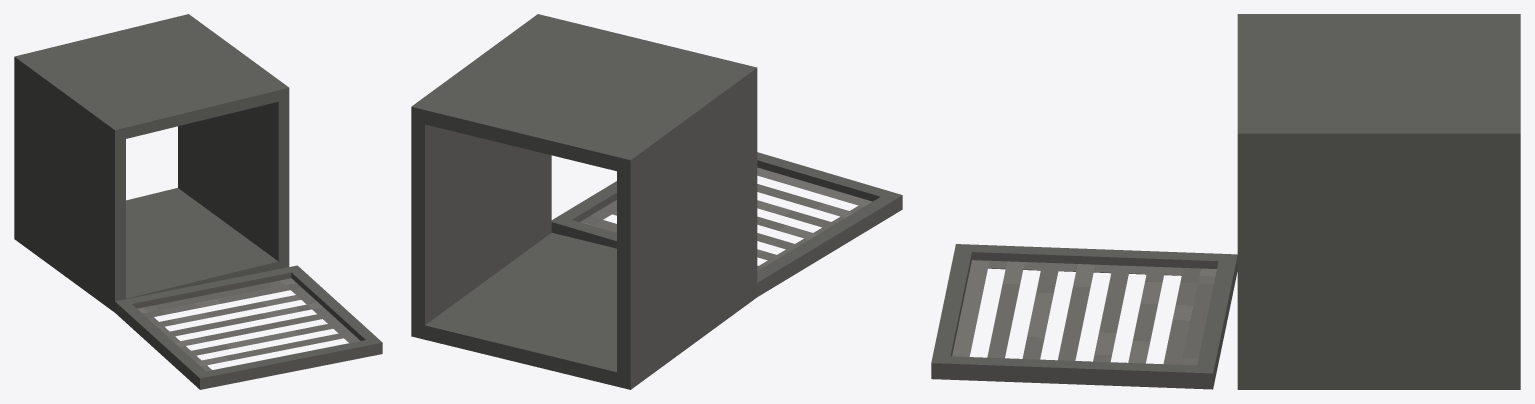
File: vent_open.glb
3 renders of one model, left to right at view 1: azimuth 30°, elevation 25°; view 2: azimuth 150°, elevation 25°; view 3: azimuth 270°, elevation 25°, orthographic. The views are drawn at different scales.
Parts seen in each view (by area): view 1: vent_door_open, door2, plane; view 2: vent_door_open, door2, plane; view 3: vent_door_open, door2, plane.
Boxes of the visible parts, <box> form: vent_door_open: <box>14,14,289,312</box>; door2: <box>115,265,382,389</box>; plane: <box>137,278,360,371</box>; vent_door_open: <box>411,14,757,389</box>; door2: <box>551,152,902,296</box>; plane: <box>580,167,872,270</box>; vent_door_open: <box>1237,14,1520,389</box>; door2: <box>931,244,1237,389</box>; plane: <box>952,260,1216,365</box>.
Size of the model in its own units: 1.09 by 1 by 2.08.
1 material, 1 textured.
